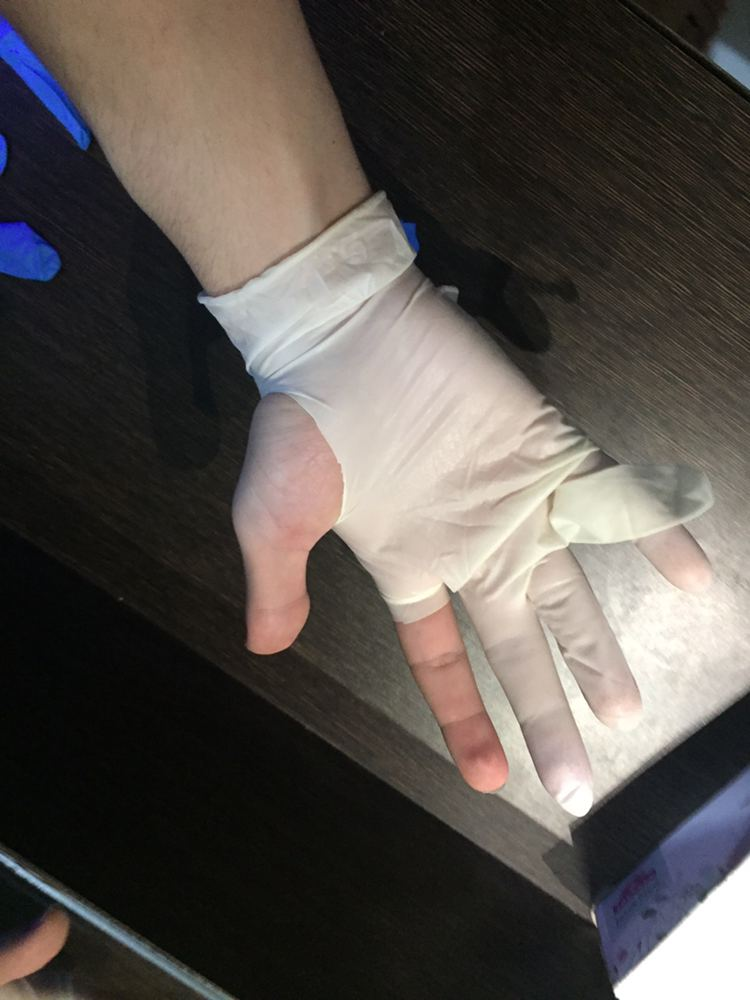defected: (185, 278, 710, 833)
